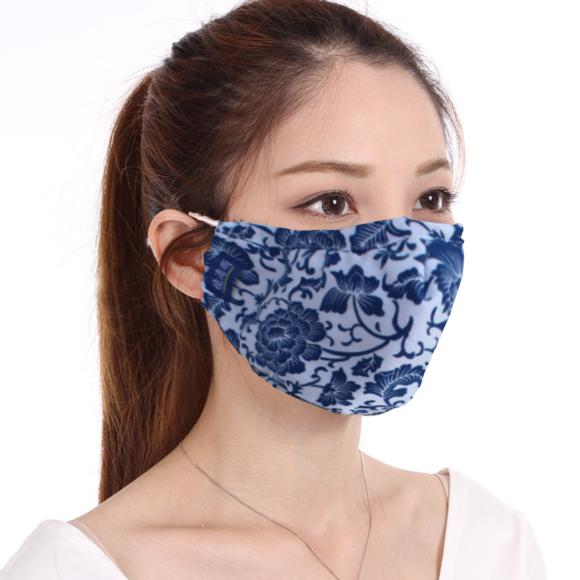OK: (217, 146, 463, 413)
